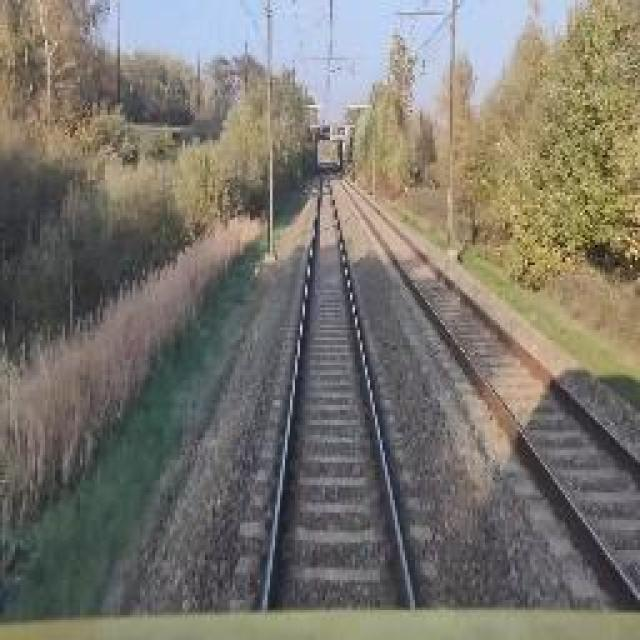rail: (326, 167, 640, 612), (224, 164, 448, 616)
